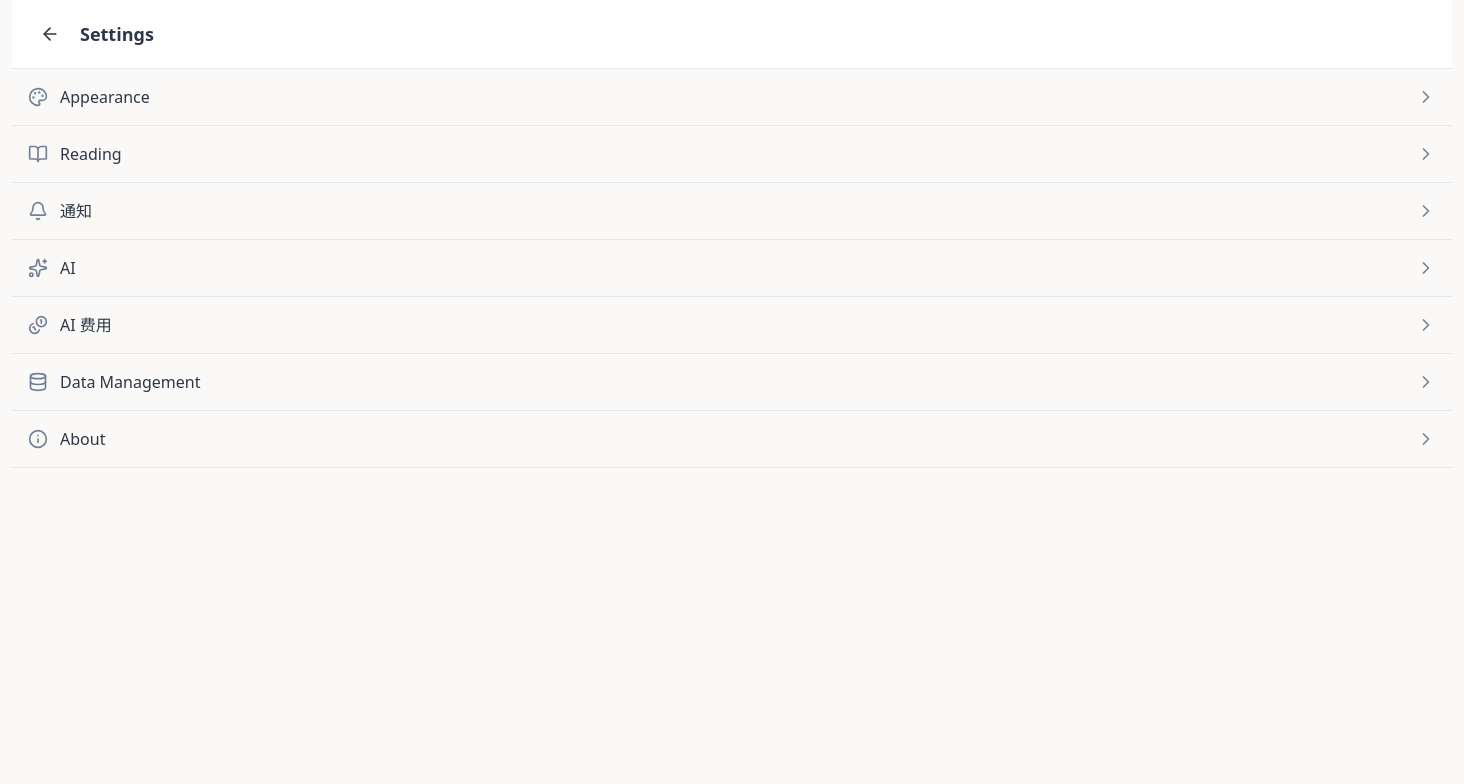
Test: MobileSettingsPanel › Data Management Settings › should expand data management section
The image size is (1464, 784).
What coordinates should you click on to do the following:
click the button "Data Management"
I would click on:
 (130, 382)
Its box is top-left (12, 354), bottom-right (1452, 410).
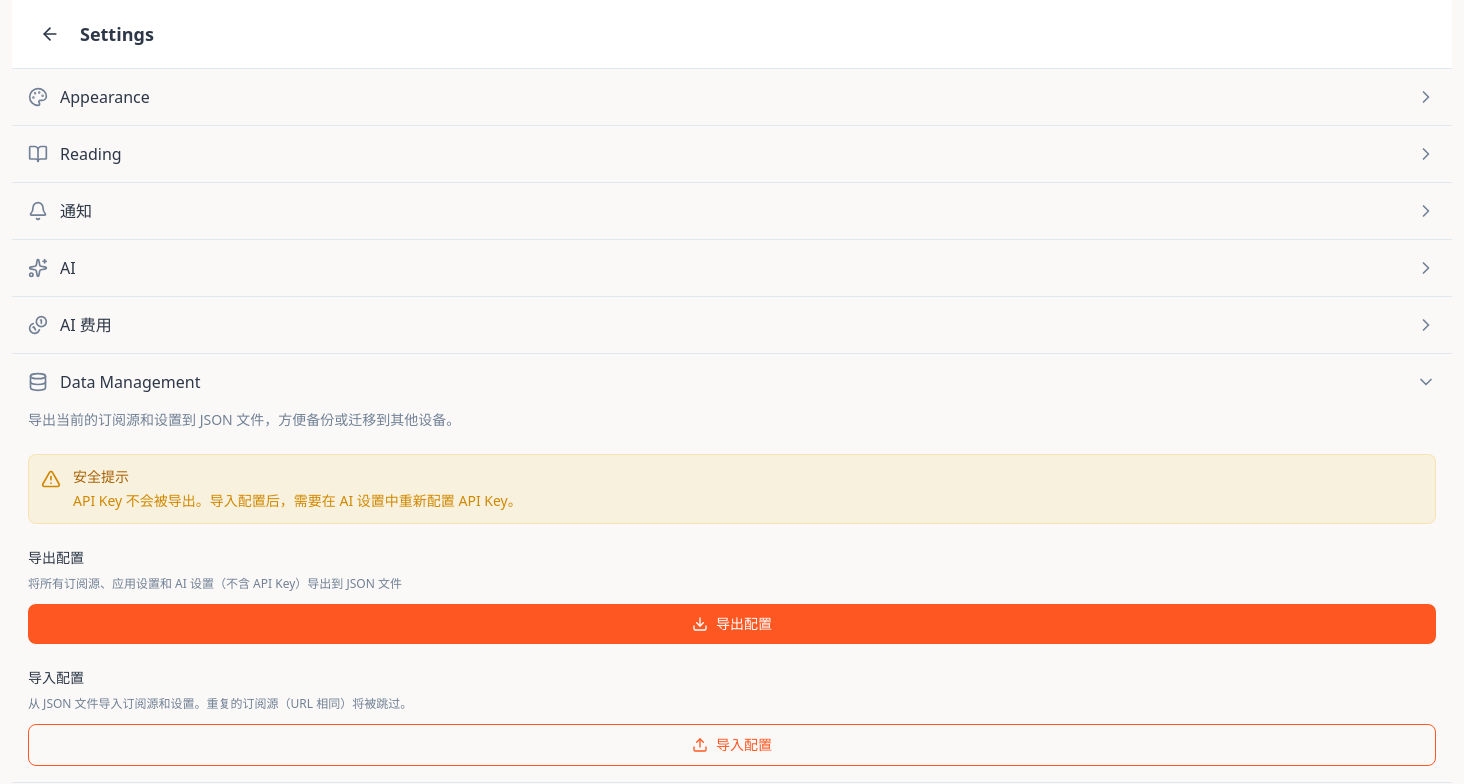
Expected: the button "Data Management" is expanded, top-left (12, 354), bottom-right (1452, 410)
